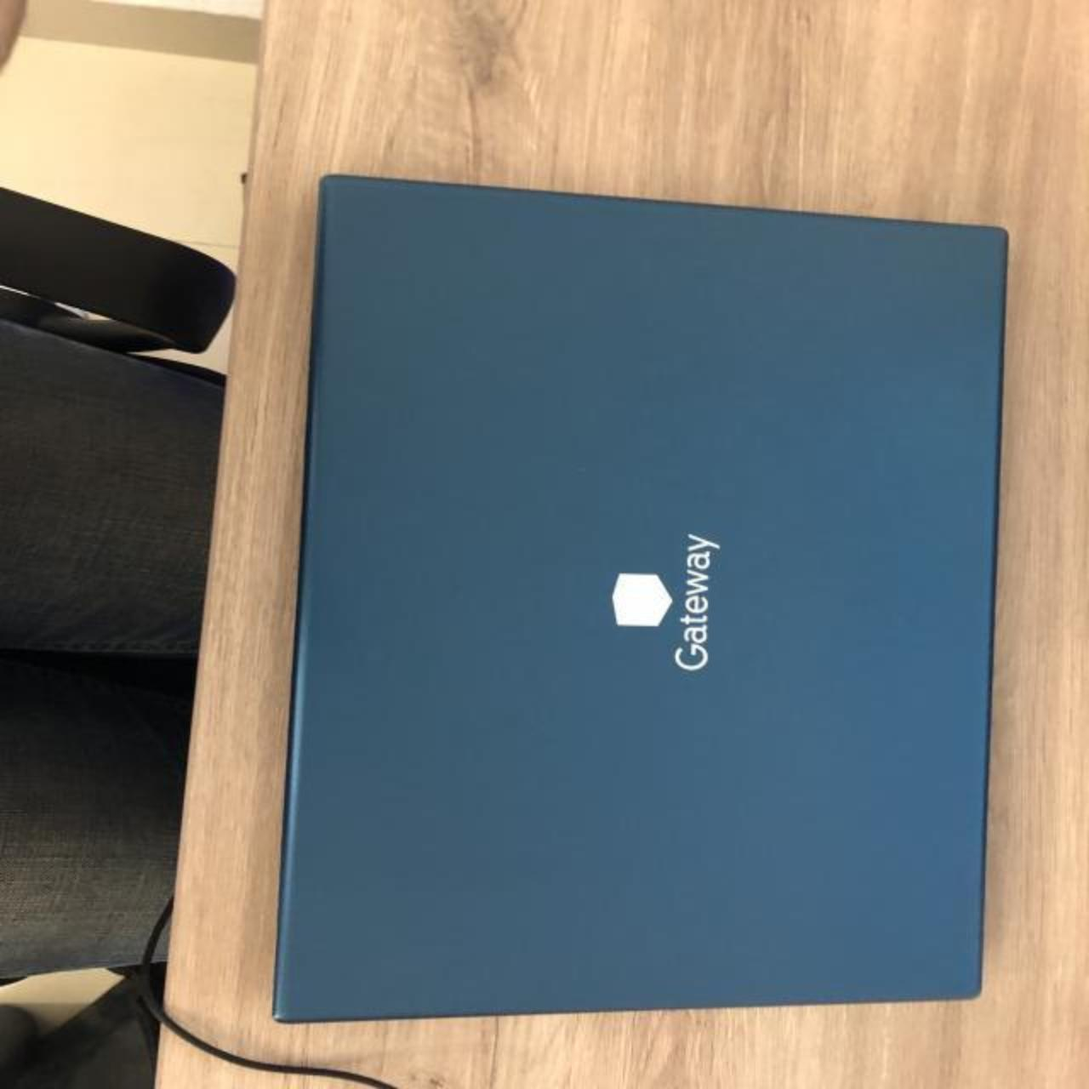laptop: (263, 169, 1017, 1035)
